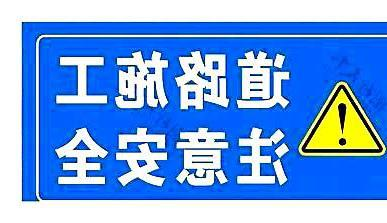sign: (32, 27, 387, 201)
